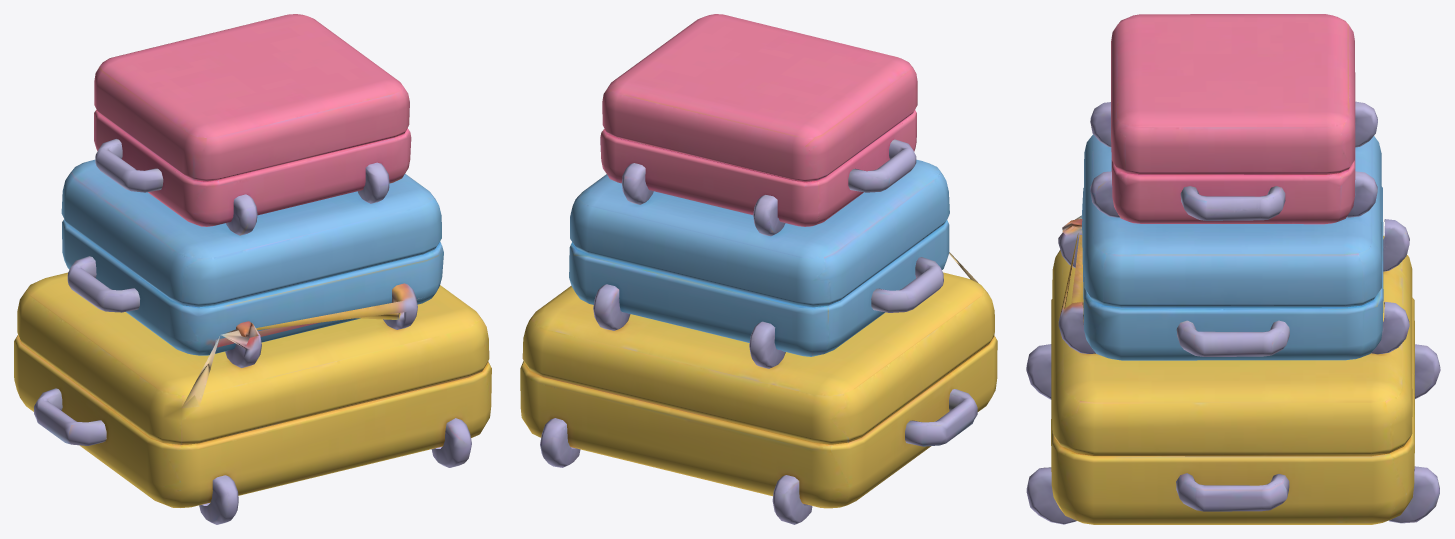
Rendered from suitcases.glb.
The picture shows the model from 3 angles, left to right: view 1: azimuth 30°, elevation 25°; view 2: azimuth 150°, elevation 25°; view 3: azimuth 270°, elevation 25°; orthographic projection. The views are drawn at different scales.
Parts seen in each view (by area): view 1: geometry_0; view 2: geometry_0; view 3: geometry_0.
Part boxes in pixels (x1,y1,x2,y2): geometry_0: (14,14,491,524); geometry_0: (520,14,997,524); geometry_0: (1026,14,1440,524).
Bounding box in the file's own units: 1 × 0.8658 × 0.8212.
1 material, 1 textured.
